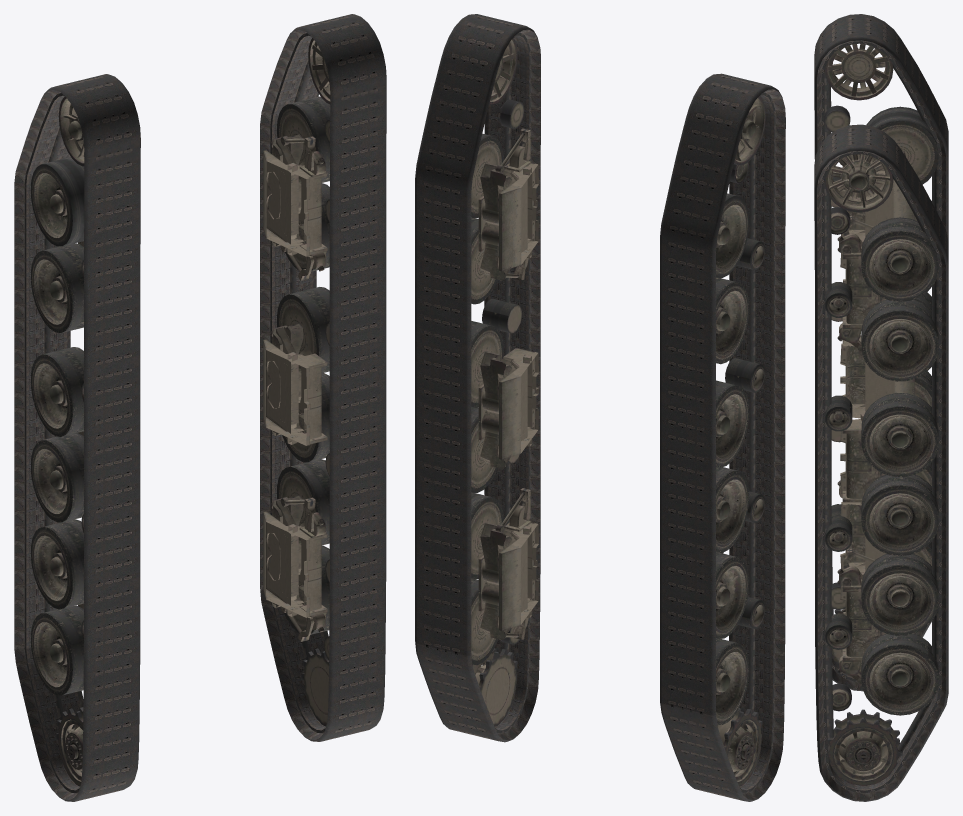
File: Chassis.glb
3 views of the same model, side by side, from view 1: azimuth 30°, elevation 25°; view 2: azimuth 150°, elevation 25°; view 3: azimuth 270°, elevation 25° (orthographic). The views are drawn at different scales.
Parts seen in each view (by area): view 1: set_0_group_0, set_1_group_0, set_3_group_0, set_2_group_0; view 2: set_0_group_0, set_1_group_0, set_3_group_0, set_2_group_0; view 3: set_3_group_0, set_1_group_0, set_2_group_0, set_0_group_0.
Boxes of the visible parts, x1=… form: set_0_group_0: x1=14, y1=74, x2=140, y2=801; set_1_group_0: x1=260, y1=14, x2=386, y2=741; set_3_group_0: x1=263, y1=38, x2=330, y2=726; set_2_group_0: x1=31, y1=96, x2=84, y2=786; set_0_group_0: x1=660, y1=73, x2=785, y2=801; set_1_group_0: x1=415, y1=14, x2=540, y2=742; set_3_group_0: x1=471, y1=38, x2=538, y2=726; set_2_group_0: x1=716, y1=96, x2=765, y2=786; set_3_group_0: x1=825, y1=154, x2=938, y2=785; set_1_group_0: x1=814, y1=124, x2=948, y2=801; set_2_group_0: x1=824, y1=43, x2=938, y2=674; set_0_group_0: x1=814, y1=14, x2=948, y2=691.
Size of the model in its own units: 3.27 by 7.34 by 1.37.
Materials: 4 (4 with a texture image).
